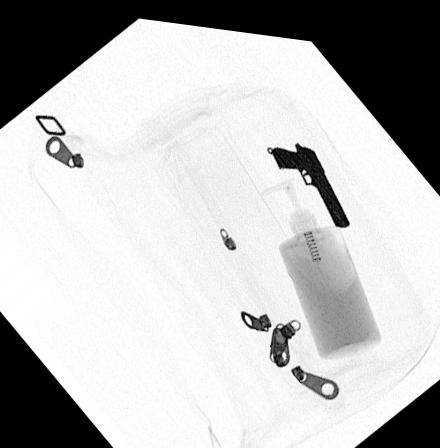Gun: (269, 131, 351, 217)
